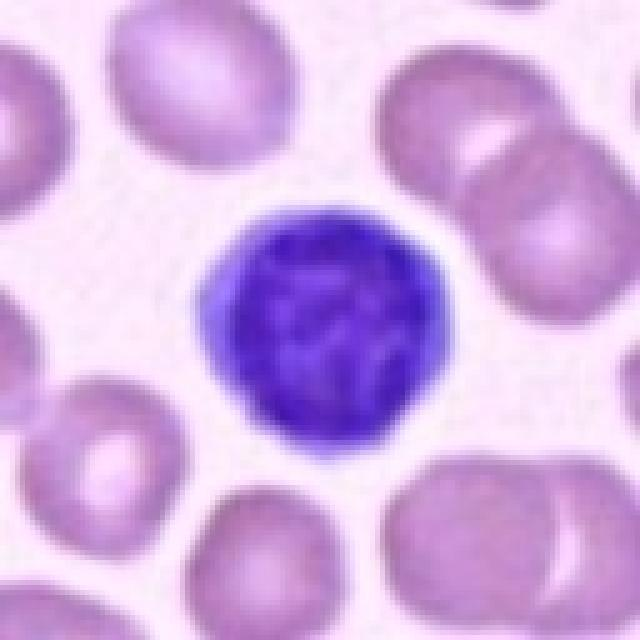lympho: (190, 199, 464, 469)
